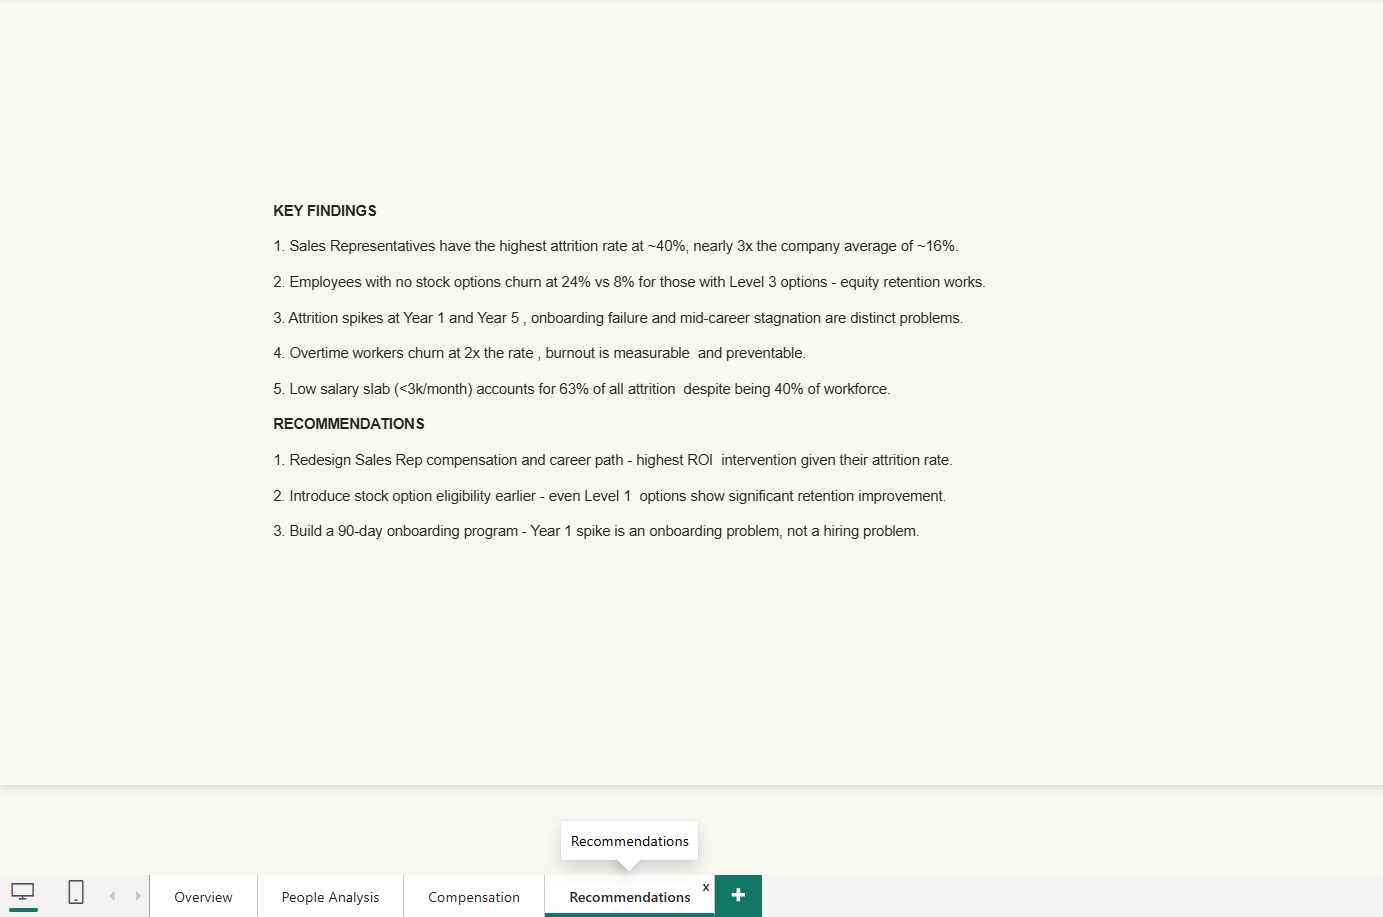

What the dashboard file says about the page in this screenshot:
{"tool":"powerbi","page":{"name":"Recommendations","canvas":[1280,720],"ordinal":3},"visuals":[{"type":"textbox","box":[0,0,655.2,360.5],"z":0},{"type":"textbox","box":[247.6,180.8,784.5,325.4],"z":1000}]}

Visuals, with their boxes on the page's 1280x720 design canvas (x1, y1, x2, y2). These are canvas units, not pixel positions in the 1383x917 screenshot, which may show the page scaled, cropped or inside an application window:
textbox: box=[0, 0, 655, 360]
textbox: box=[248, 181, 1032, 506]
